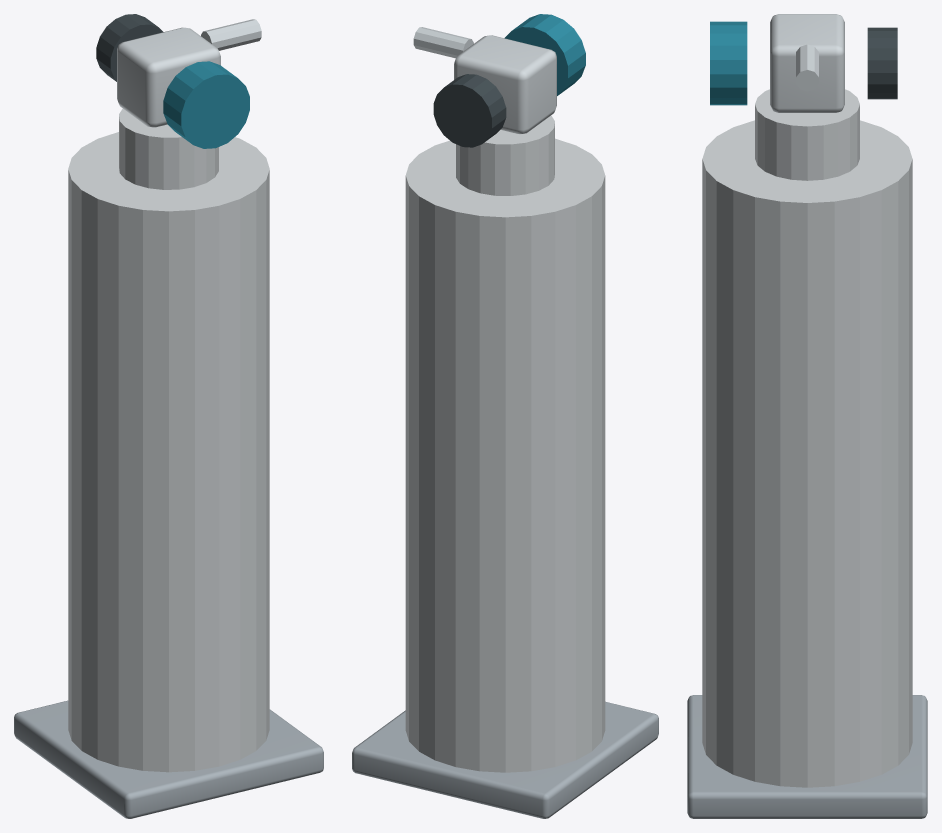
File: oxygen_cylinder.fbx
3 renders of one model, left to right at view 1: azimuth 30°, elevation 25°; view 2: azimuth 150°, elevation 25°; view 3: azimuth 270°, elevation 25°, orthographic. The views are drawn at different scales.
Parts seen in each view (by area): view 1: EQ_oxygen_cylinder_Body, EQ_oxygen_cylinder_Bracket, EQ_oxygen_cylinder_Valve, EQ_oxygen_cylinder_Dial, EQ_oxygen_cylinder_Shoulder, EQ_oxygen_cylinder_Gauge, EQ_oxygen_cylinder_Outlet; view 2: EQ_oxygen_cylinder_Body, EQ_oxygen_cylinder_Bracket, EQ_oxygen_cylinder_Valve, EQ_oxygen_cylinder_Shoulder, EQ_oxygen_cylinder_Gauge, EQ_oxygen_cylinder_Dial, EQ_oxygen_cylinder_Outlet; view 3: EQ_oxygen_cylinder_Body, EQ_oxygen_cylinder_Bracket, EQ_oxygen_cylinder_Shoulder, EQ_oxygen_cylinder_Valve, EQ_oxygen_cylinder_Dial, EQ_oxygen_cylinder_Gauge, EQ_oxygen_cylinder_Outlet.
Part boxes in pixels (x1=…): EQ_oxygen_cylinder_Body: x1=68, y1=132, x2=269, y2=772; EQ_oxygen_cylinder_Bracket: x1=14, y1=700, x2=323, y2=818; EQ_oxygen_cylinder_Valve: x1=117, y1=27, x2=220, y2=127; EQ_oxygen_cylinder_Dial: x1=163, y1=61, x2=249, y2=148; EQ_oxygen_cylinder_Shoulder: x1=119, y1=108, x2=218, y2=189; EQ_oxygen_cylinder_Gauge: x1=96, y1=14, x2=163, y2=81; EQ_oxygen_cylinder_Outlet: x1=201, y1=19, x2=261, y2=50; EQ_oxygen_cylinder_Body: x1=405, y1=138, x2=605, y2=772; EQ_oxygen_cylinder_Bracket: x1=352, y1=701, x2=658, y2=818; EQ_oxygen_cylinder_Valve: x1=454, y1=35, x2=556, y2=134; EQ_oxygen_cylinder_Shoulder: x1=456, y1=115, x2=554, y2=195; EQ_oxygen_cylinder_Gauge: x1=433, y1=74, x2=506, y2=147; EQ_oxygen_cylinder_Dial: x1=504, y1=14, x2=585, y2=95; EQ_oxygen_cylinder_Outlet: x1=413, y1=27, x2=473, y2=58; EQ_oxygen_cylinder_Body: x1=702, y1=120, x2=912, y2=787; EQ_oxygen_cylinder_Bracket: x1=687, y1=695, x2=927, y2=818; EQ_oxygen_cylinder_Shoulder: x1=755, y1=89, x2=859, y2=180; EQ_oxygen_cylinder_Valve: x1=770, y1=14, x2=844, y2=112; EQ_oxygen_cylinder_Dial: x1=710, y1=21, x2=747, y2=105; EQ_oxygen_cylinder_Gauge: x1=867, y1=27, x2=897, y2=99; EQ_oxygen_cylinder_Outlet: x1=796, y1=44, x2=818, y2=91.
Size of the model in its own units: 0.16 by 0.548 by 0.16.
